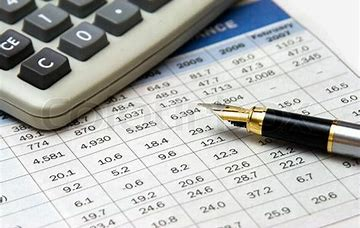pen: (196, 95, 360, 161)
